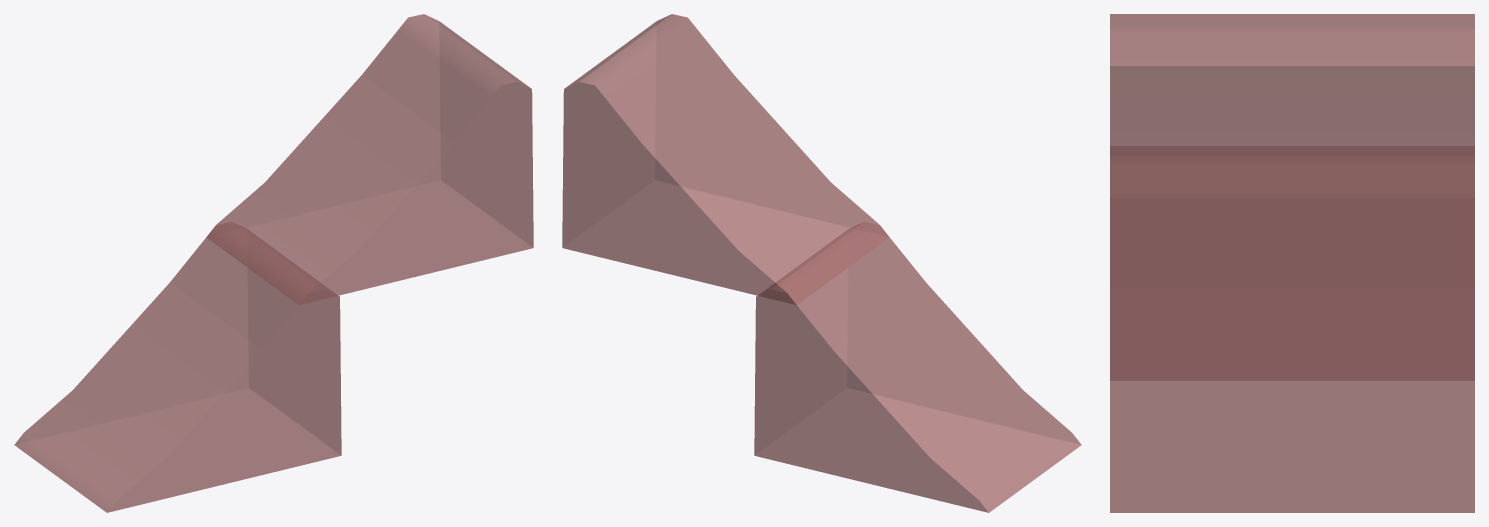
File: StairsWide_COL.fbx
3 renders of one model, left to right at view 1: azimuth 30°, elevation 25°; view 2: azimuth 150°, elevation 25°; view 3: azimuth 270°, elevation 25°, orthographic. The views are drawn at different scales.
Visible parts, largest first — view 1: StairsWide_COL, StairsWide_COL1; view 2: StairsWide_COL, StairsWide_COL1; view 3: StairsWide_COL, StairsWide_COL1.
Boxes of the visible parts, x1=… form: StairsWide_COL: x1=206, y1=14, x2=533, y2=304; StairsWide_COL1: x1=14, y1=222, x2=341, y2=512; StairsWide_COL: x1=562, y1=14, x2=888, y2=304; StairsWide_COL1: x1=754, y1=222, x2=1081, y2=512; StairsWide_COL: x1=1110, y1=14, x2=1474, y2=380; StairsWide_COL1: x1=1110, y1=146, x2=1474, y2=512.
Bounding box in the file's own units: 1111 × 824 × 418.
